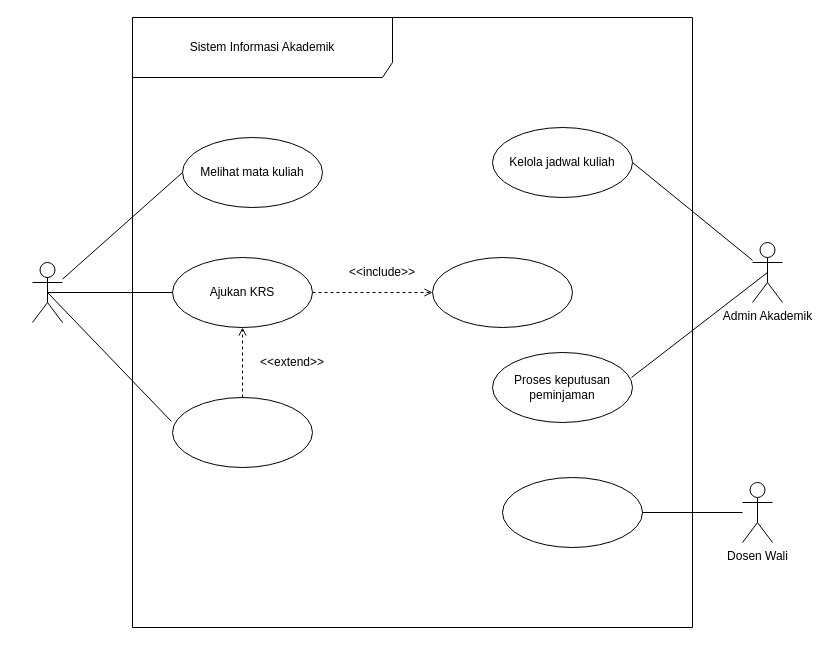
Some shapes in this 829 by 645 pixel diagram are drawn without their labels. Here are the shapes that lost their labels. From the top down, the centre of each, then its label:
At point 47,292: "Mahasiswa".
At point 502,292: "Periksa kelengkapan, prasyarat matkul, benturan jadwal".
At point 242,432: "Unduh bukti pengajuan".
At point 572,512: "Memutuskan keputusan KRS".
